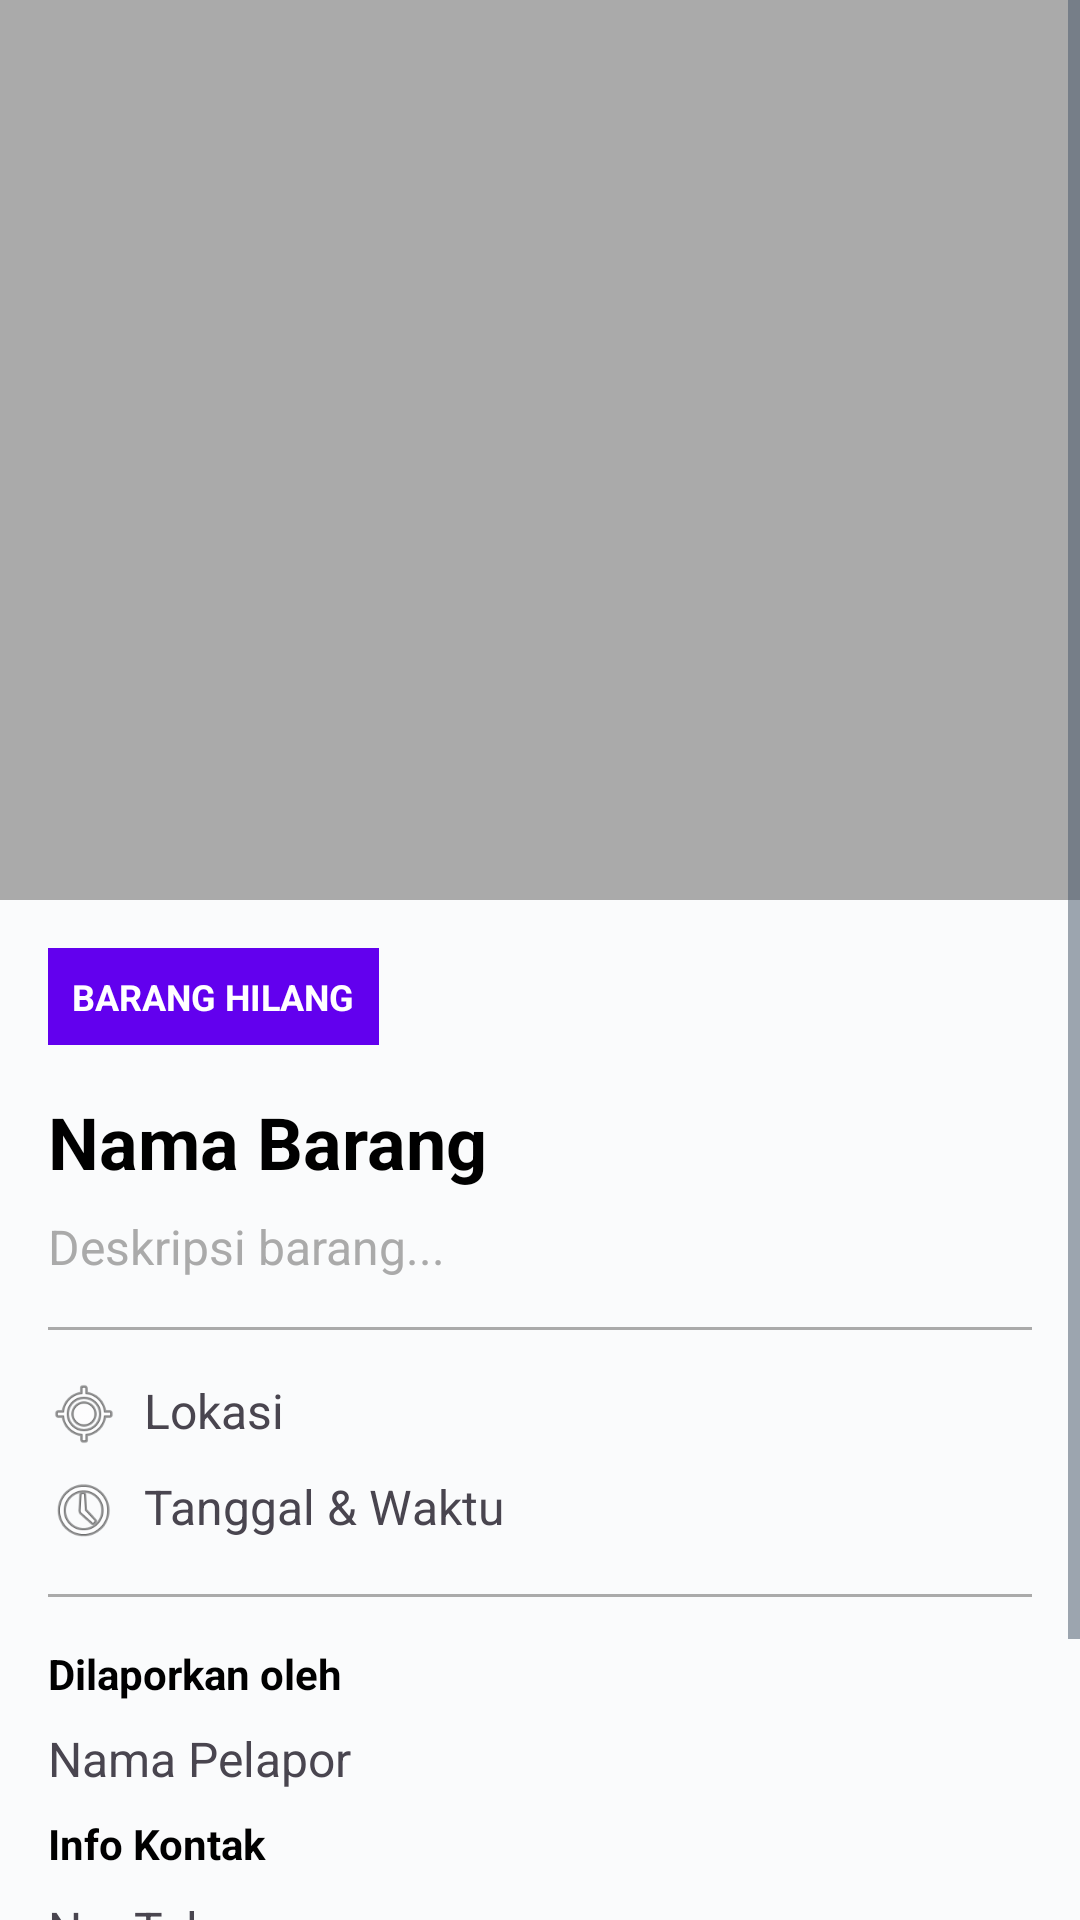

Icon bounding boxes for this 1080px x 1920px phone screenshot, format box=[x1, y1, x2, y2]:
mylocation: box=[55, 1385, 113, 1443]
recent history: box=[57, 1484, 110, 1536]
